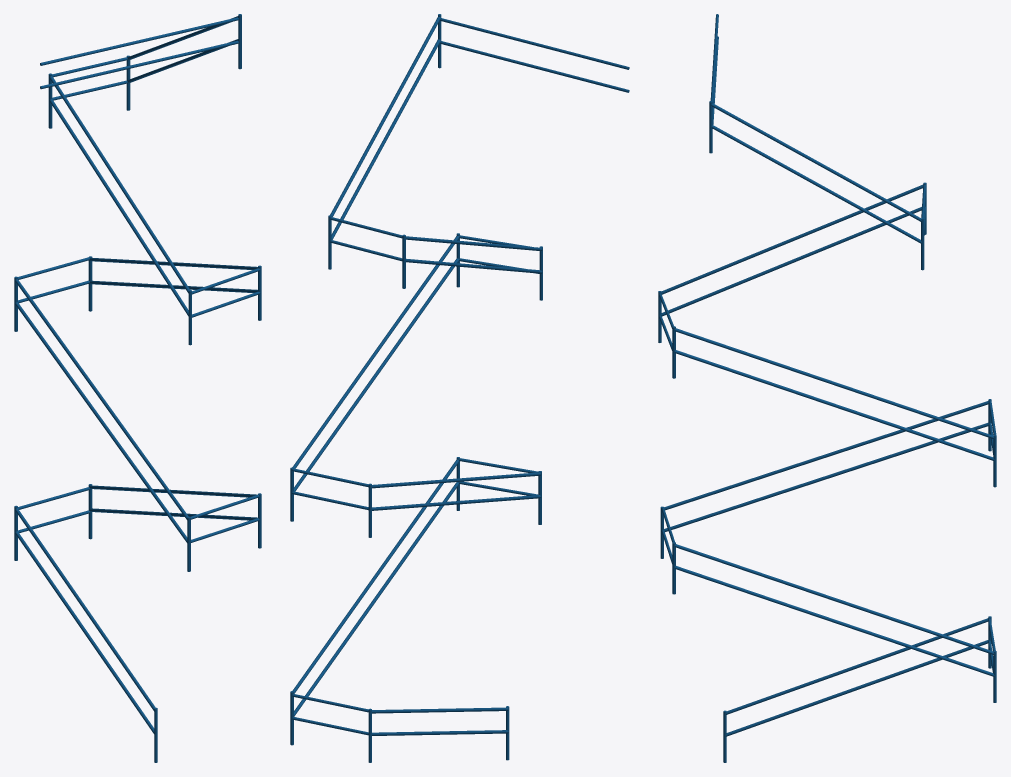
Rendered from GCES_rayling.fbx.
3 views of the same model, side by side, from view 1: azimuth 30°, elevation 25°; view 2: azimuth 150°, elevation 25°; view 3: azimuth 270°, elevation 25° (orthographic). The views are drawn at different scales.
Visible parts, largest first — view 1: polySurface630; view 2: polySurface630; view 3: polySurface630.
Part boxes in pixels (left/top/right/bottom): polySurface630: left=14, top=14, right=261, bottom=762; polySurface630: left=290, top=14, right=629, bottom=762; polySurface630: left=658, top=14, right=996, bottom=762.
Size of the model in its own units: 35.79 by 127 by 55.95.
1 material, 1 textured.
